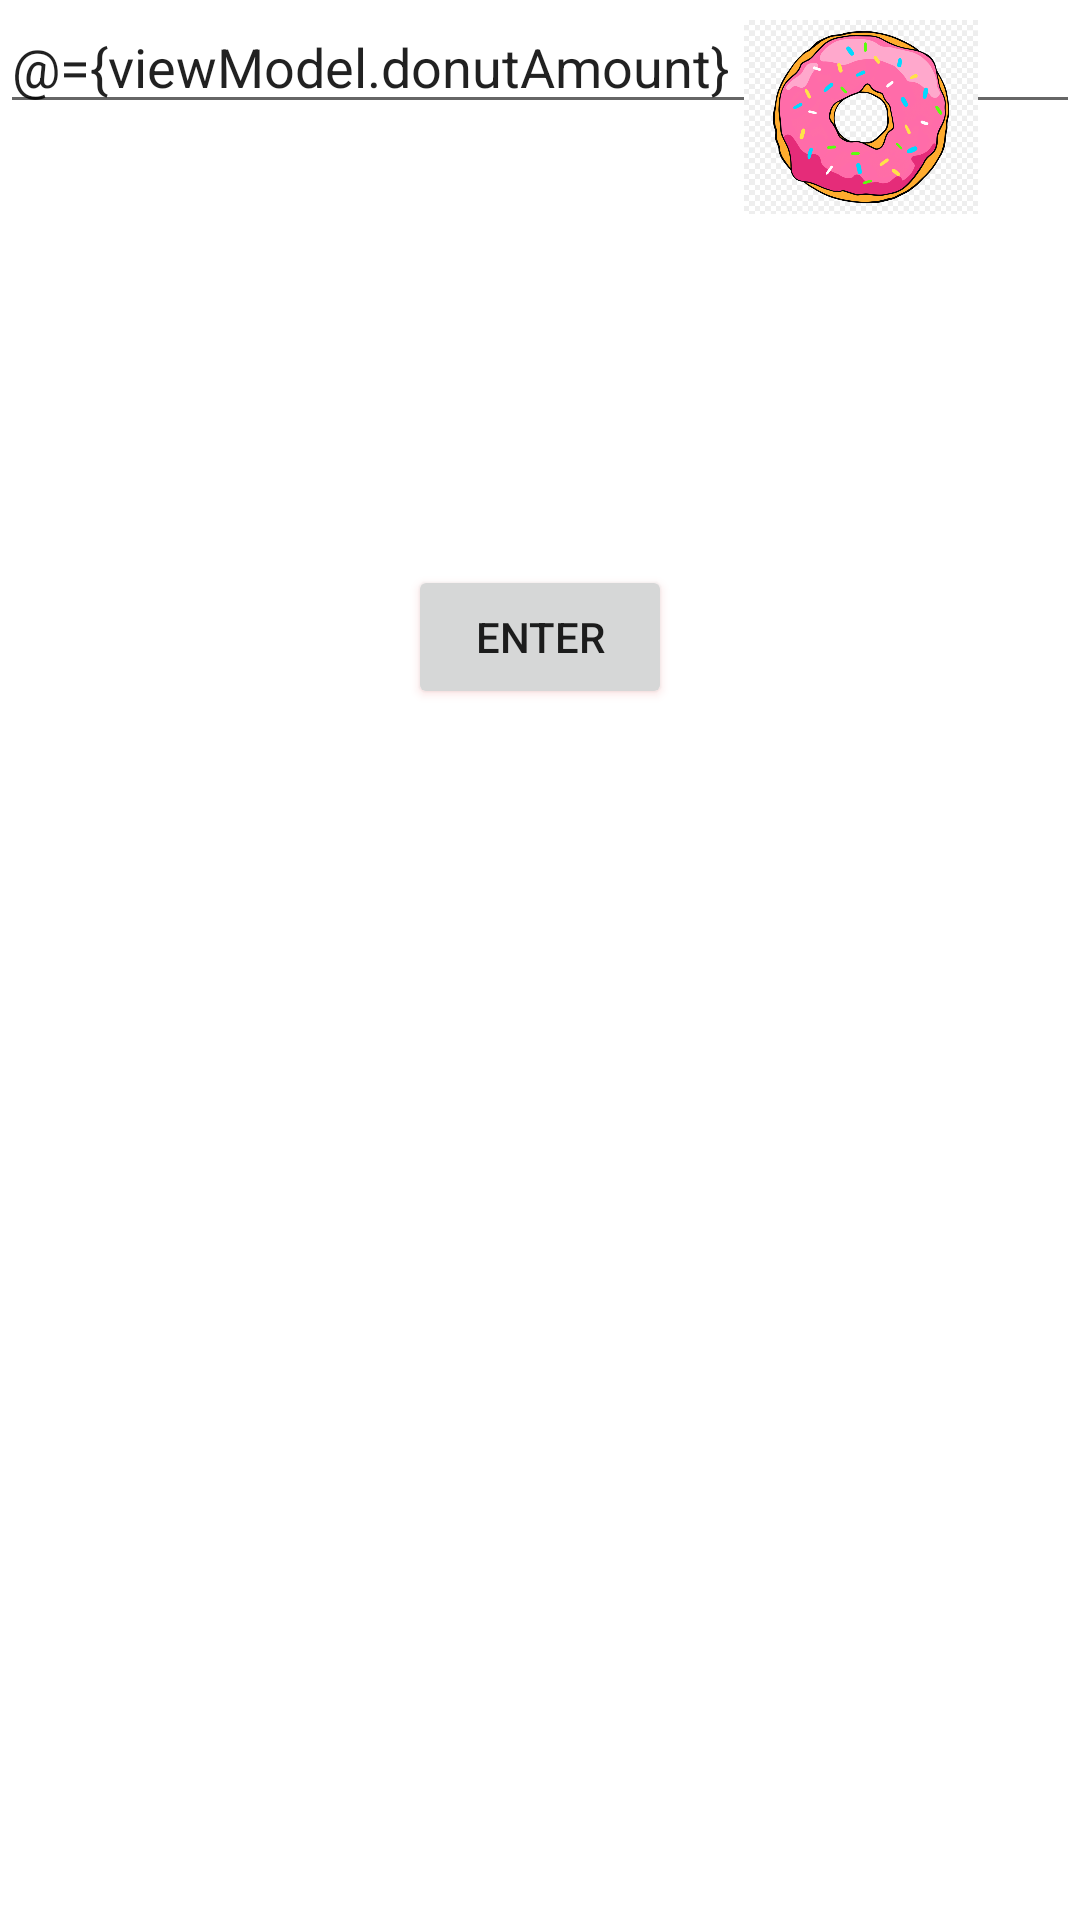

Where icons sit on this 1080px x 1920px app screen, as (x1, y1, x2, y2):
donuttransparent: (773, 31, 949, 204)
